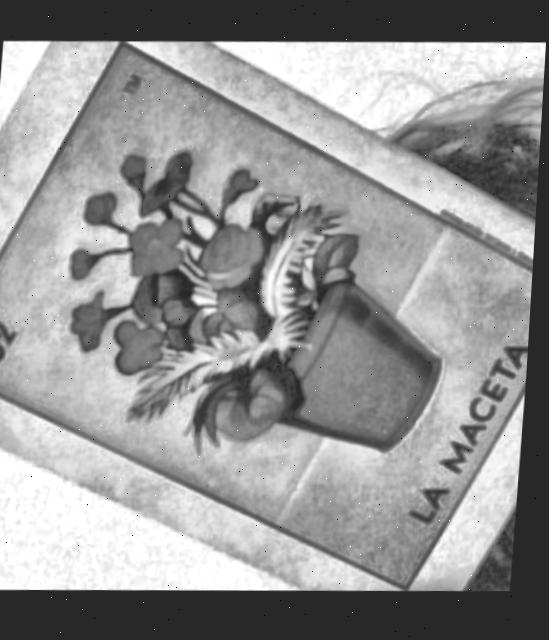La Maceta: (0, 43, 536, 592)
